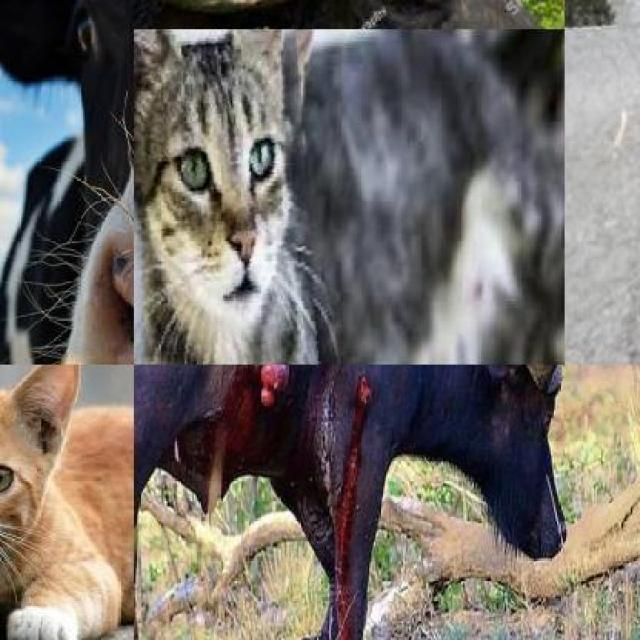buffalo: (133, 364, 586, 640)
cat: (134, 29, 349, 365), (0, 364, 134, 640)
cow: (0, 0, 134, 365)
dog: (611, 29, 640, 365)
injured: (326, 364, 369, 640), (222, 364, 298, 468)
